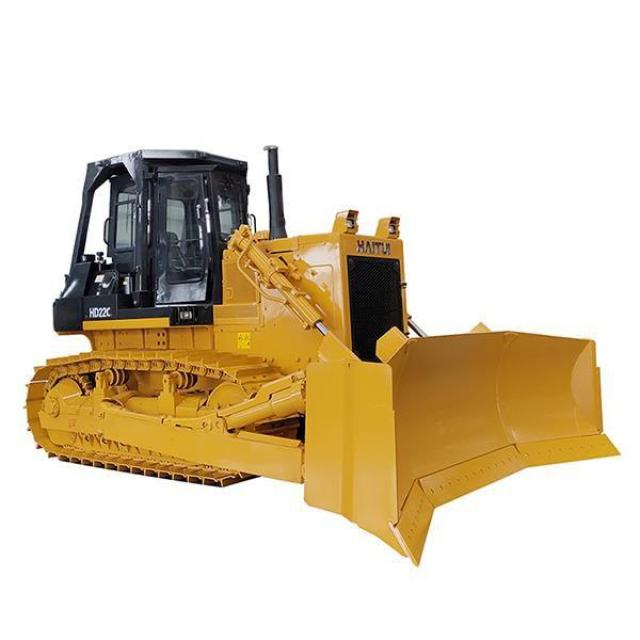buldozerpayloadergrader: (16, 127, 639, 558)
